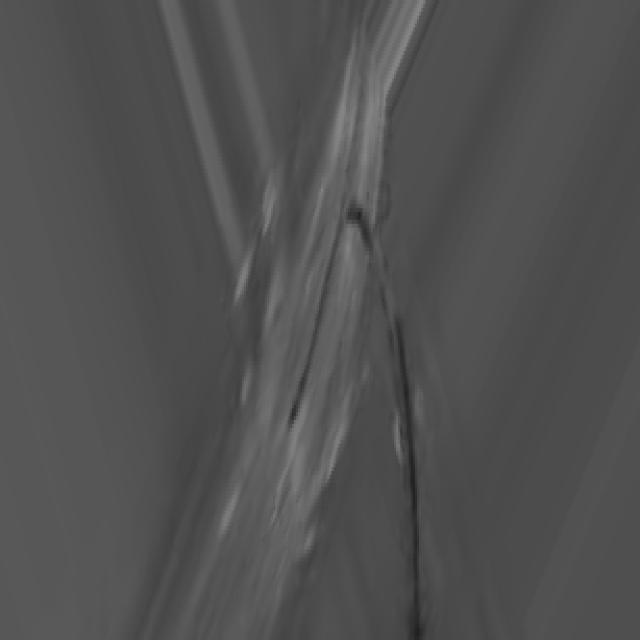larvas: (344, 199, 444, 640)
